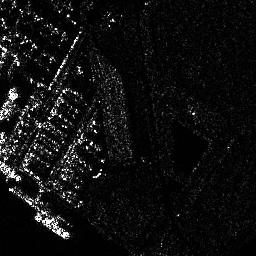ship: (34, 211, 70, 241), (1, 161, 22, 181)
